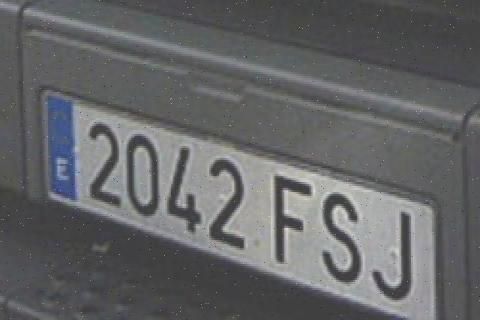LicensePlate: (38, 84, 440, 320)
